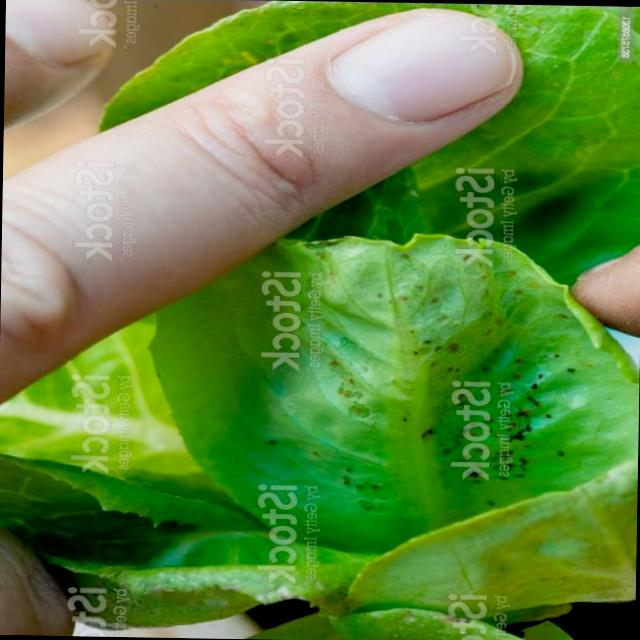Bacterial: (253, 258, 541, 496)
